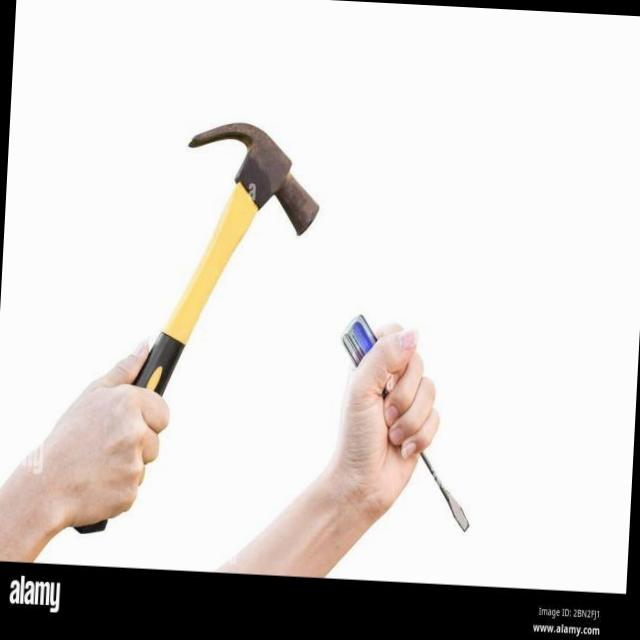hammer: (134, 123, 318, 395)
screwdriver: (421, 453, 470, 532), (342, 315, 378, 366)
